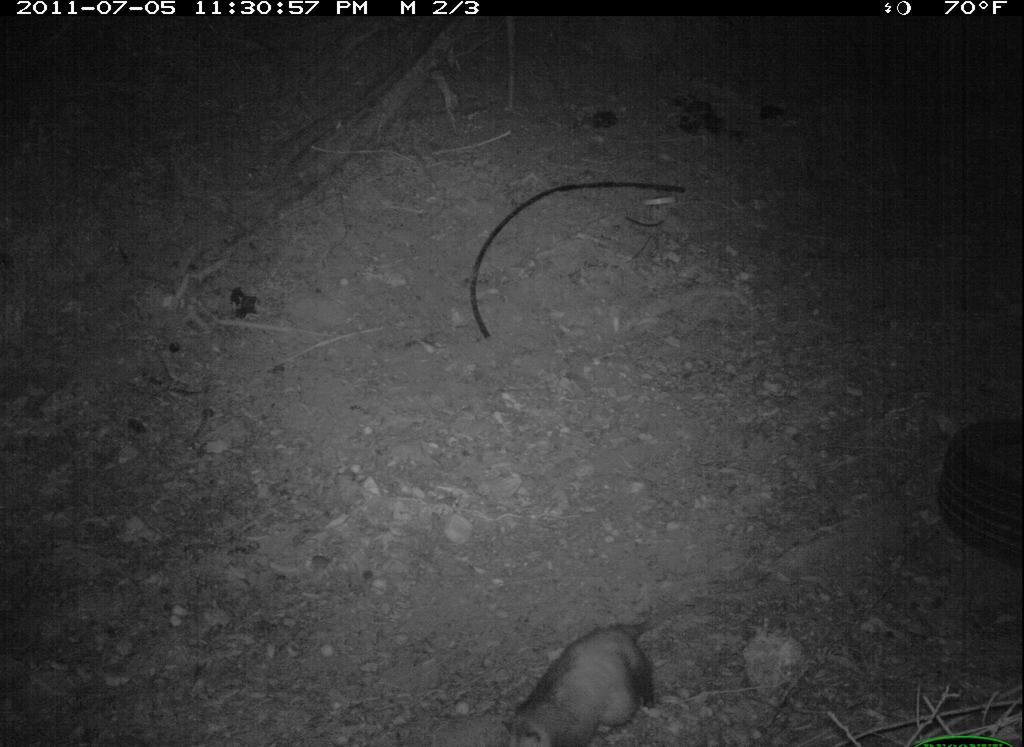opossum: (496, 598, 667, 745)
